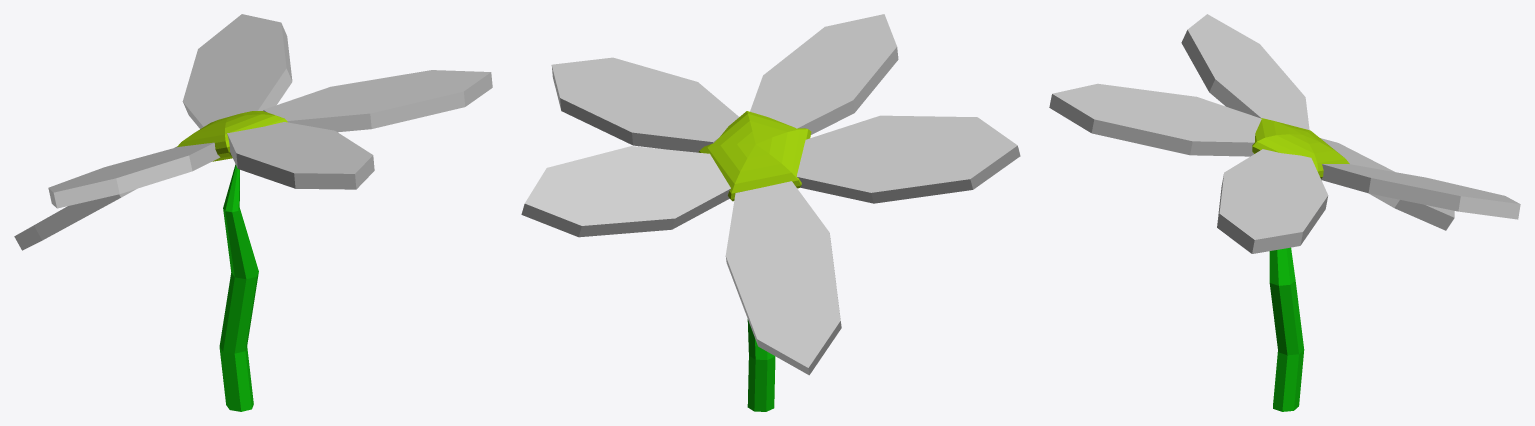
The model's file is flower.obj.
The picture shows the model from 3 angles, left to right: view 1: azimuth 30°, elevation 25°; view 2: azimuth 150°, elevation 25°; view 3: azimuth 270°, elevation 25°; orthographic projection. The views are drawn at different scales.
Size of the model in its own units: 0.3745 by 0.2498 by 0.345.
